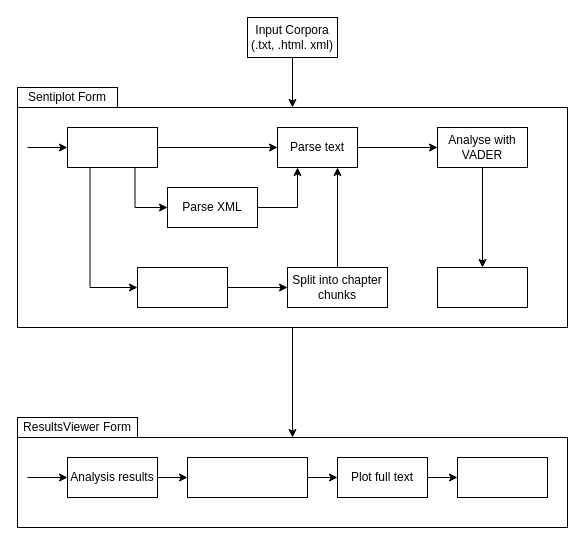
Some shapes in this 585 by 545 pixel diagram are drawn without their labels. The centre of each missing label's shape, as x and y in pixels:
"Add results to table" goes at [502,477].
"Generate new ResultsViewer" goes at [482,287].
"Input file" goes at [112,147].
"Parse HTML" goes at [182,287].
"Plot each chapter in groups of 5" goes at [247,477].
